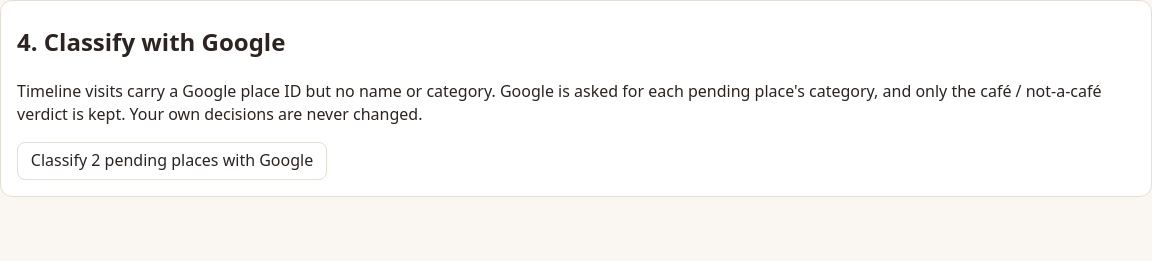
Test case: GoogleClassify › classifies pending places that have a Google ID
This screenshot has width=1152, height=261.
Click the button "Classify 2 pending places with Google": click(172, 161) [17, 142, 327, 180]
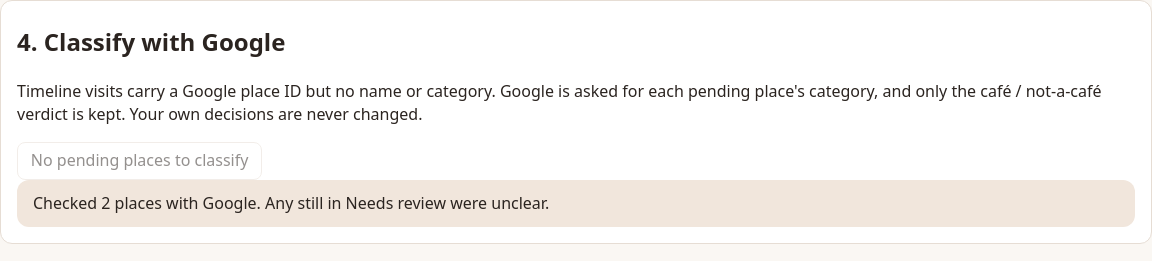
Expected: the message shows "Checked 2 places with Google.", [33, 192, 549, 214]
Expected: the button "No pending places to classify" is shown, [17, 142, 262, 180]
Expected: the button "No pending places to classify" is disabled, [17, 142, 262, 180]
